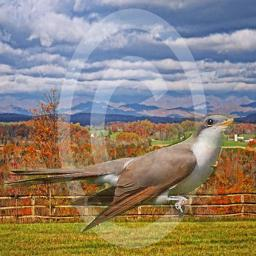Cuckoo: (4, 114, 234, 232)
